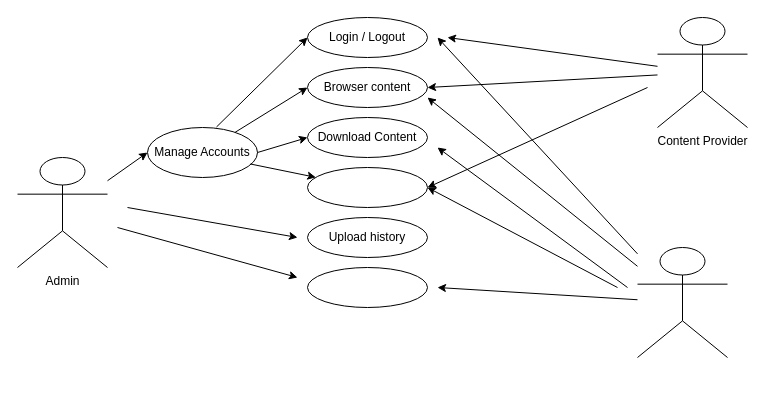
Image size: 765x396. Some labels were removed from this diagram. Here are the shapes that lost their labels. From the top down, the centre of each, then its label:
At point (367, 187): "Make payment".
At point (367, 287): "Watch history".
At point (682, 302): "User".
